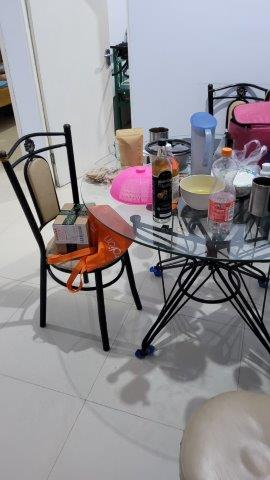botolkaca: (154, 141, 174, 225)
